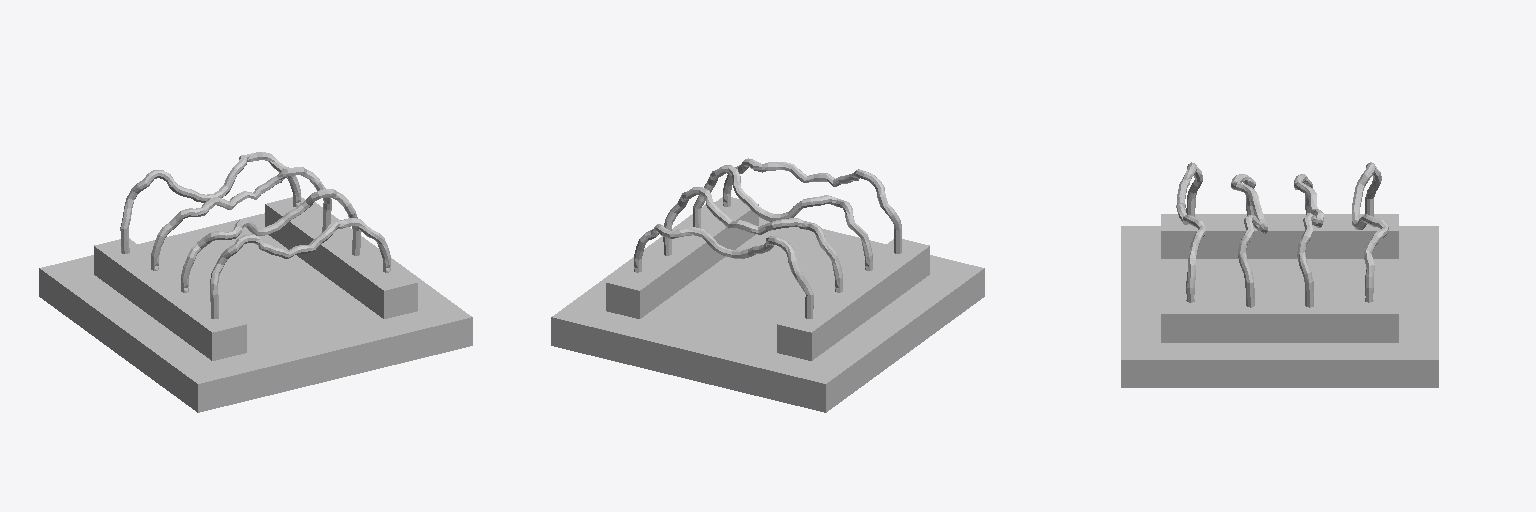
File: bombwires.obj
3 renders of one model, left to right at view 1: azimuth 30°, elevation 25°; view 2: azimuth 150°, elevation 25°; view 3: azimuth 270°, elevation 25°, orthographic.
Parts seen in each view (by area): view 1: Cube_Cube.002, Cube.004_Cube.005, Cube.001_Cube.002, Cube.002_Cube.003, Cube.003_Cube.004; view 2: Cube_Cube.002, Cube.002_Cube.003, Cube.003_Cube.004, Cube.001_Cube.002, Cube.004_Cube.005; view 3: Cube_Cube.002, Cube.001_Cube.002, Cube.004_Cube.005, Cube.002_Cube.003, Cube.003_Cube.004.
Boxes of the visible parts, box(x1,y1,x2,y2) form: Cube_Cube.002: box(39, 197, 472, 412); Cube.004_Cube.005: box(210, 218, 390, 318); Cube.001_Cube.002: box(120, 152, 300, 253); Cube.002_Cube.003: box(181, 189, 360, 292); Cube.003_Cube.004: box(151, 167, 331, 270); Cube_Cube.002: box(551, 197, 984, 412); Cube.002_Cube.003: box(693, 165, 872, 270); Cube.003_Cube.004: box(663, 187, 842, 292); Cube.001_Cube.002: box(634, 224, 813, 318); Cube.004_Cube.005: box(723, 158, 901, 253); Cube_Cube.002: box(1121, 214, 1438, 387); Cube.001_Cube.002: box(1352, 162, 1388, 302); Cube.004_Cube.005: box(1176, 162, 1205, 302); Cube.002_Cube.003: box(1231, 174, 1267, 307); Cube.003_Cube.004: box(1294, 174, 1323, 307).
Bounding box in the file's own units: 0.012 × 0.0055 × 0.012.